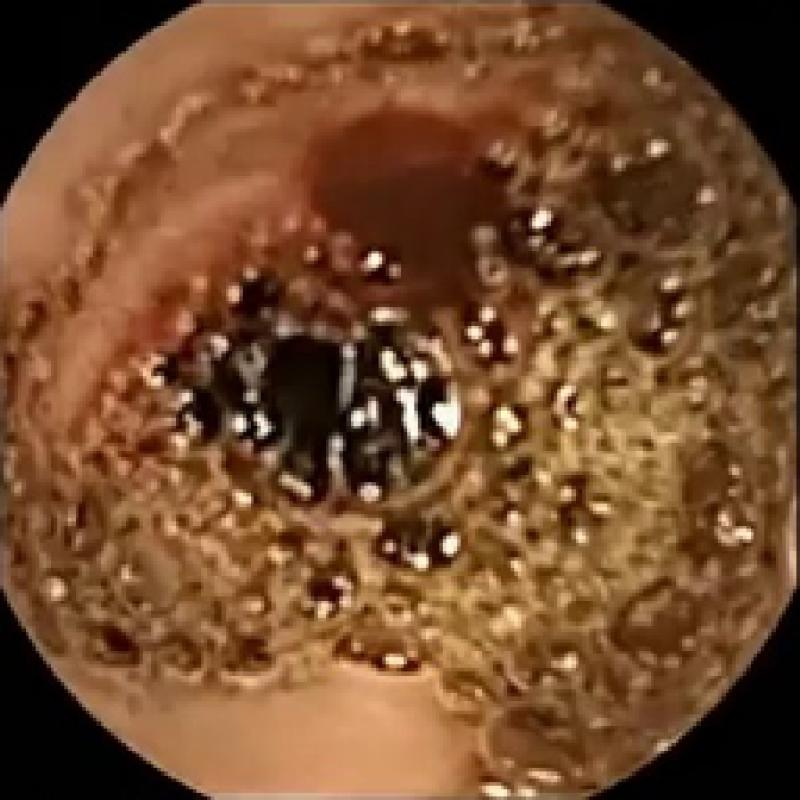bleeding: (157, 207, 575, 504), (369, 514, 464, 567), (639, 278, 694, 351), (84, 613, 144, 664), (304, 574, 348, 619)
